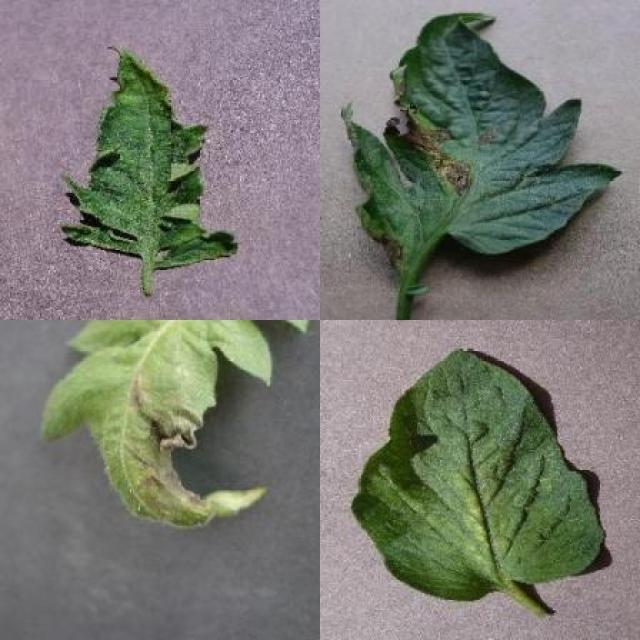Early Blight: (338, 12, 631, 264)
Late Blight: (39, 320, 274, 533)
Mosaic Virus: (58, 44, 242, 274)
Spider Mites: (351, 346, 606, 604)
